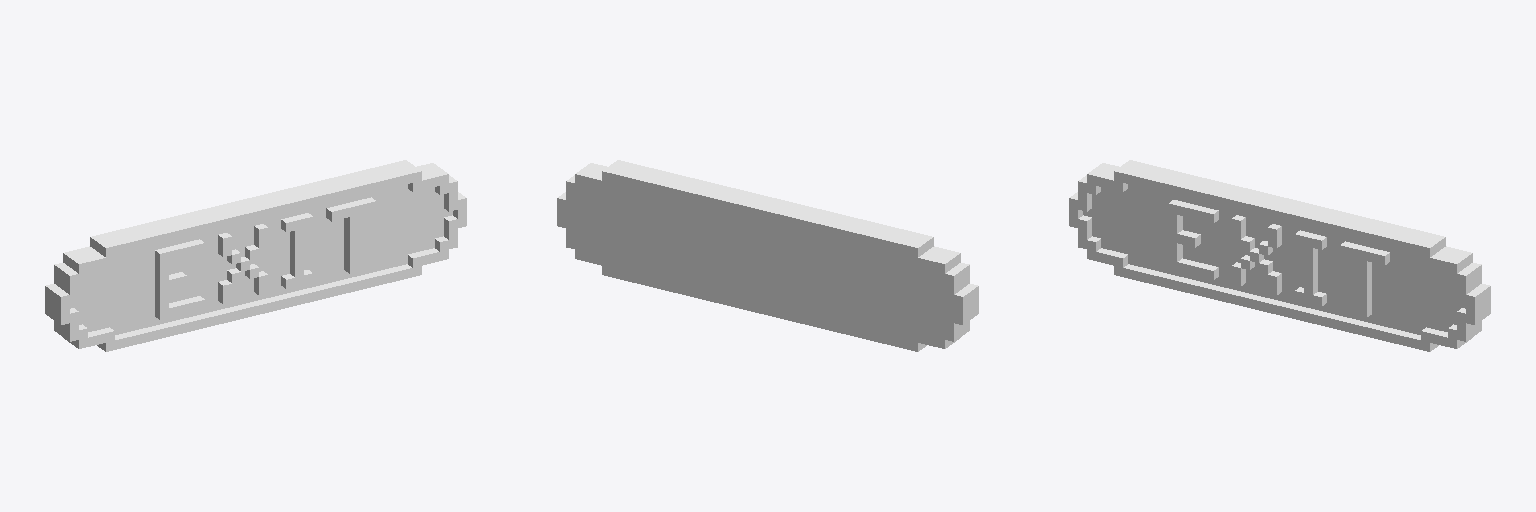
The model's file is ButtonsHelp-2.obj.
3 views of the same model, side by side, from view 1: azimuth 30°, elevation 25°; view 2: azimuth 150°, elevation 25°; view 3: azimuth 330°, elevation 25° (orthographic).
Visible parts, largest first — view 1: ButtonsHelp-2; view 2: ButtonsHelp-2; view 3: ButtonsHelp-2.
Part boxes in pixels (left/top/right/bottom): ButtonsHelp-2: left=45, top=160, right=466, bottom=351; ButtonsHelp-2: left=557, top=160, right=978, bottom=351; ButtonsHelp-2: left=1069, top=160, right=1490, bottom=351.
Bounding box in the file's own units: 45 × 11 × 3.